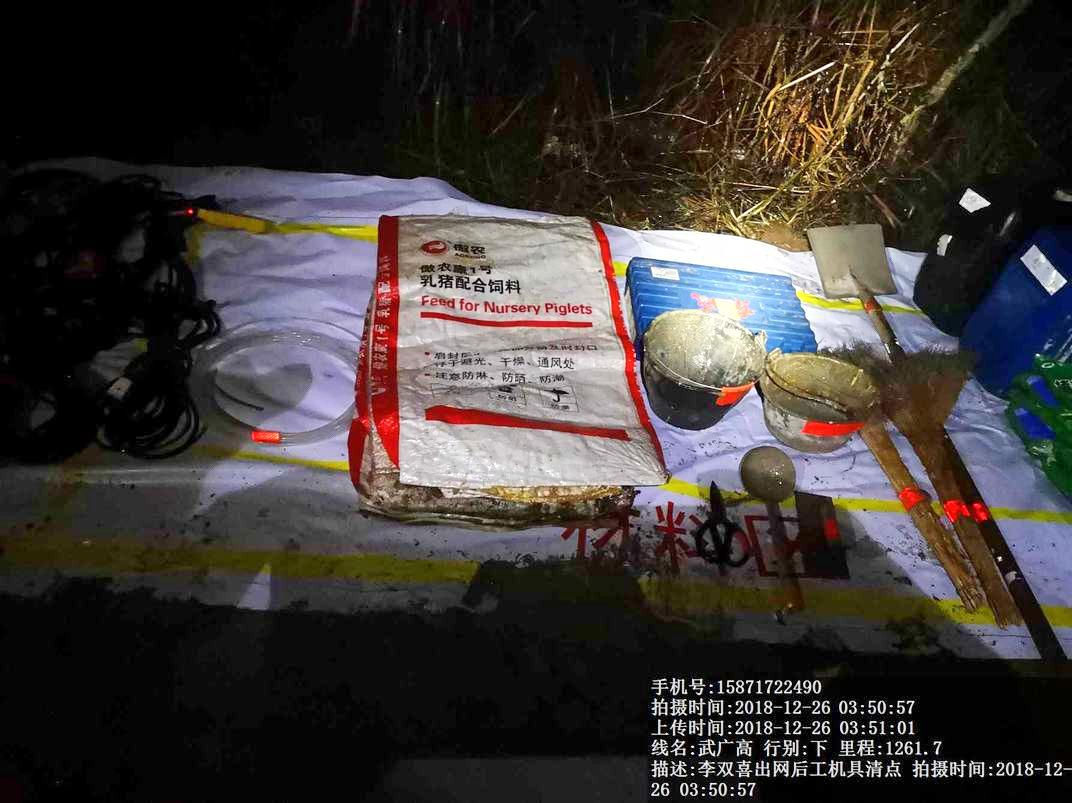BZD: (364, 207, 660, 531)
SB: (877, 356, 1021, 624)
SG: (184, 322, 355, 454)
SNT: (644, 311, 762, 434), (759, 336, 868, 462)
TQ: (808, 213, 906, 352)
